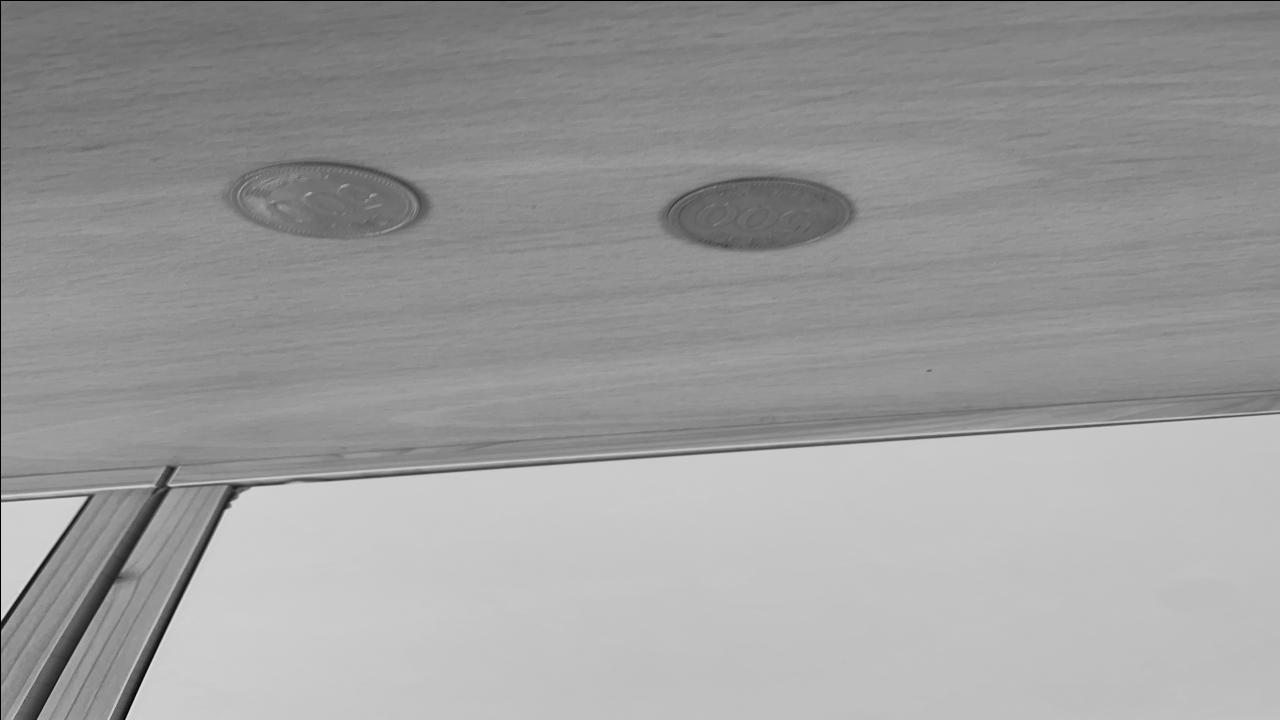coin: (224, 160, 426, 240), (658, 176, 858, 254)
